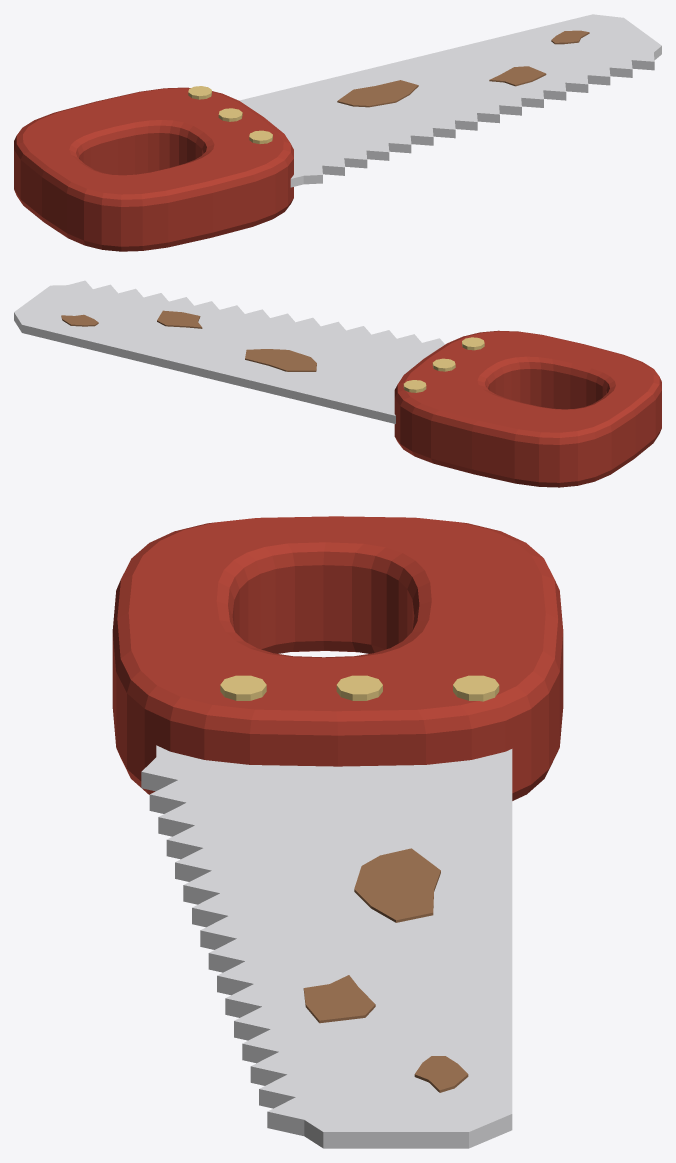
The model's file is saw.glb.
3 views of the same model, one above another, from view 1: azimuth 30°, elevation 25°; view 2: azimuth 150°, elevation 25°; view 3: azimuth 270°, elevation 25° (orthographic). The views are drawn at different scales.
Parts seen in each view (by area): view 1: saw; view 2: saw; view 3: saw.
Part boxes in pixels (x1,y1,x2,y2): saw: [14, 14, 661, 251]; saw: [14, 280, 661, 487]; saw: [112, 516, 563, 1148].
Bounding box in the file's own units: 0.187 × 0.0185 × 0.062.
